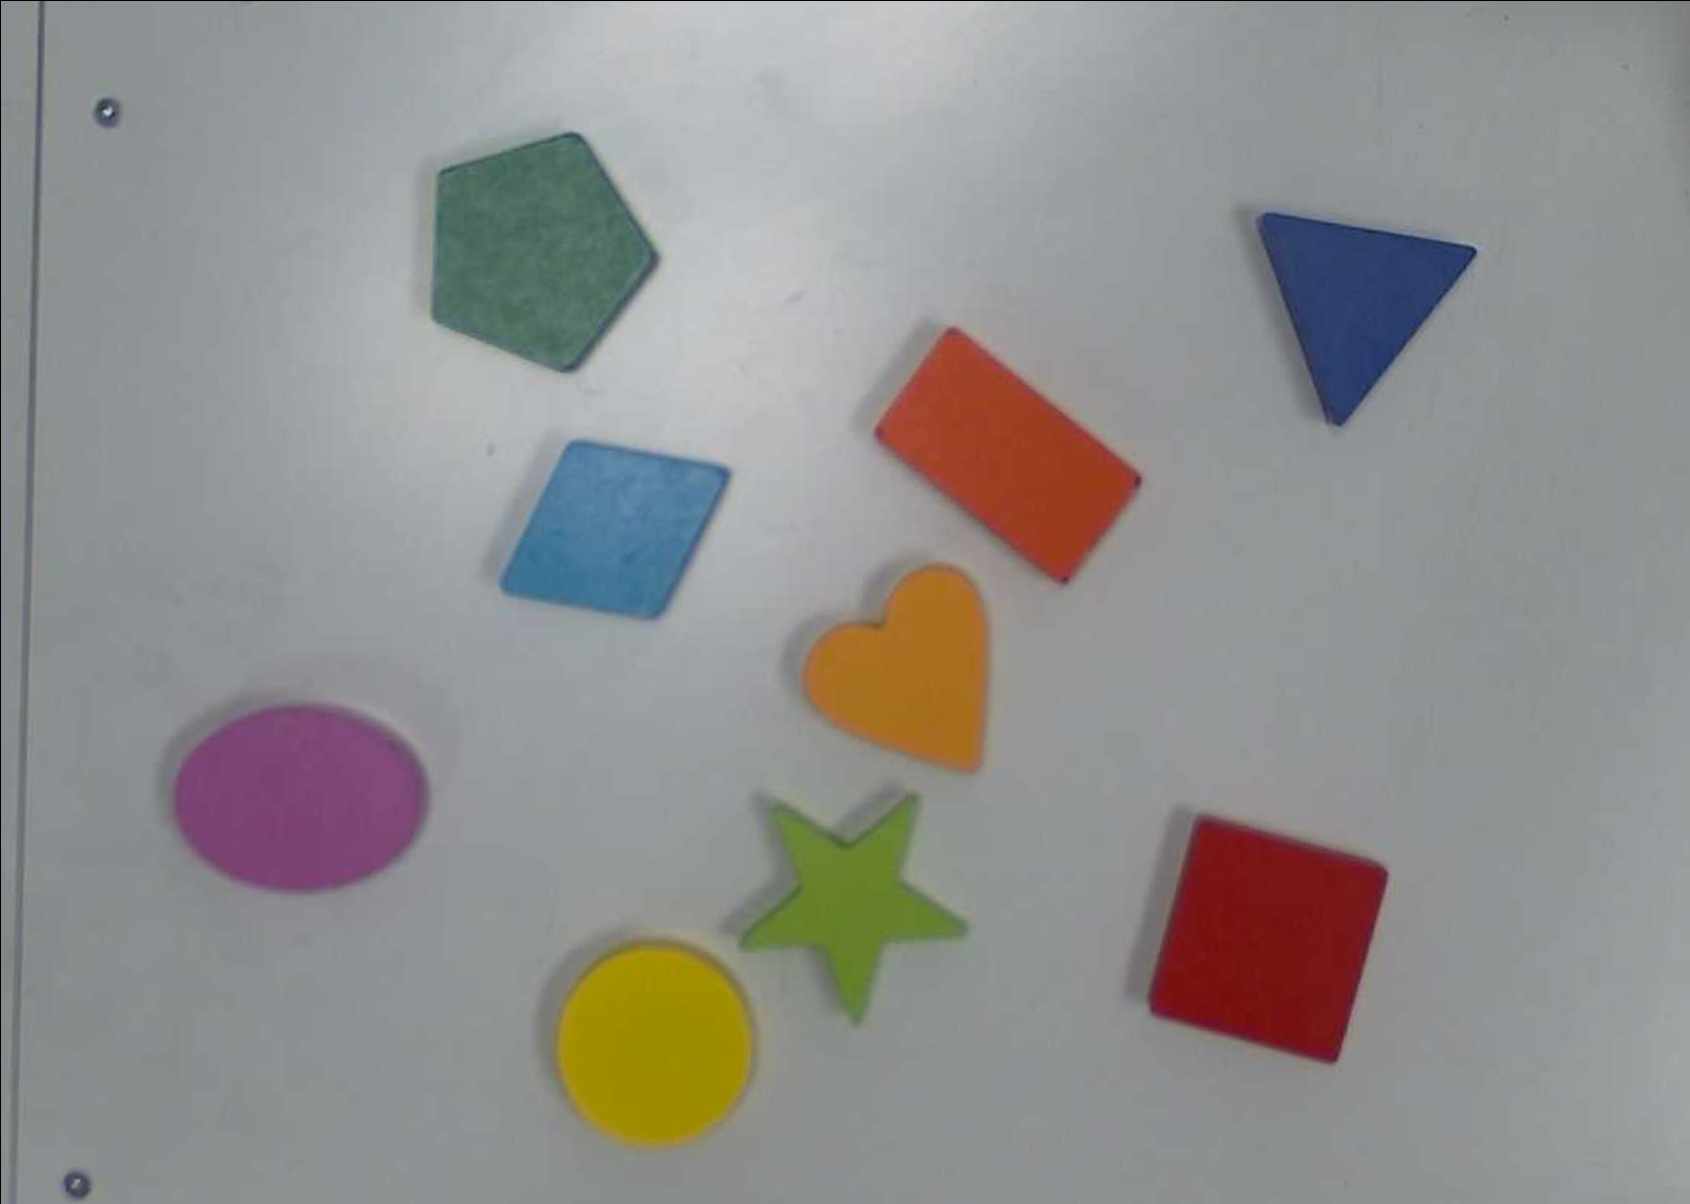Circle: (552, 939, 761, 1151)
Ellipse: (168, 702, 430, 893)
Heart: (800, 564, 992, 774)
Parallelogram: (499, 438, 731, 618)
Pentagon: (429, 126, 661, 377)
Rectangle: (870, 321, 1145, 592)
Square: (1143, 805, 1394, 1067)
Star: (734, 788, 972, 1018)
Triangle: (1256, 214, 1476, 429)
